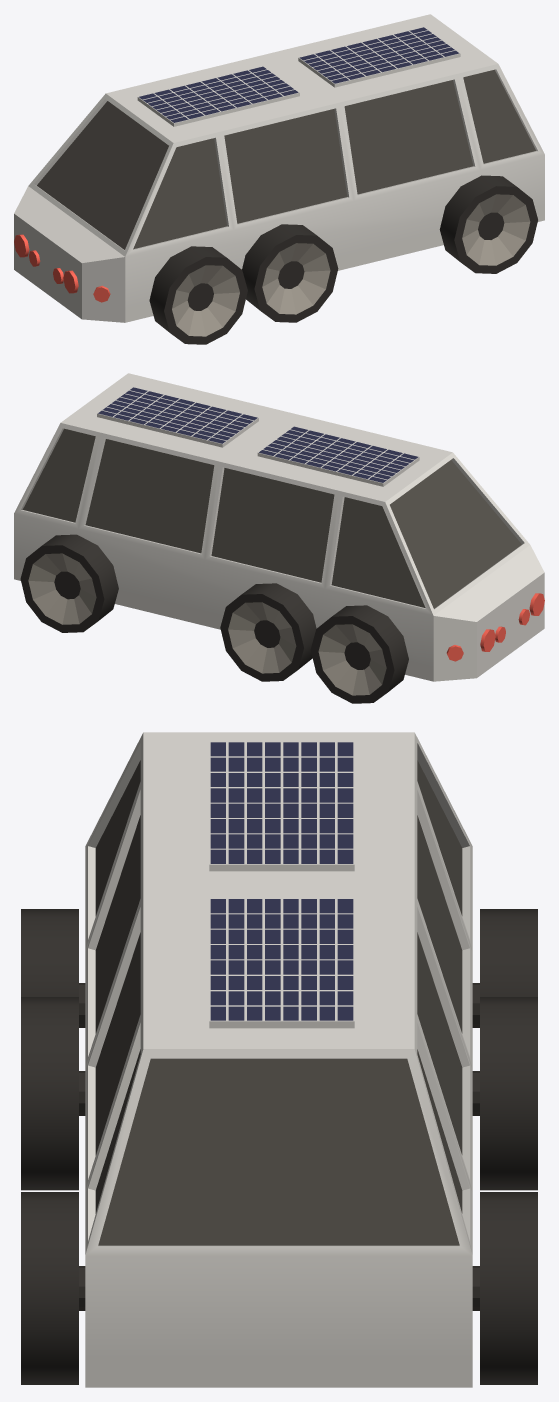
File: 07 Space_bus.FBX
The picture shows the model from 3 angles, top to bottom: view 1: azimuth 30°, elevation 25°; view 2: azimuth 150°, elevation 25°; view 3: azimuth 270°, elevation 25°; orthographic projection. The views are drawn at different scales.
Parts seen in each view (by area): view 1: Space_Bus; view 2: Space_Bus; view 3: Space_Bus.
Boxes of the visible parts, x1,y1,x2,y2 form: Space_Bus: (14, 14, 544, 344); Space_Bus: (14, 373, 544, 703); Space_Bus: (21, 732, 537, 1387).
Size of the model in its own units: 2153 by 834 by 1067.
